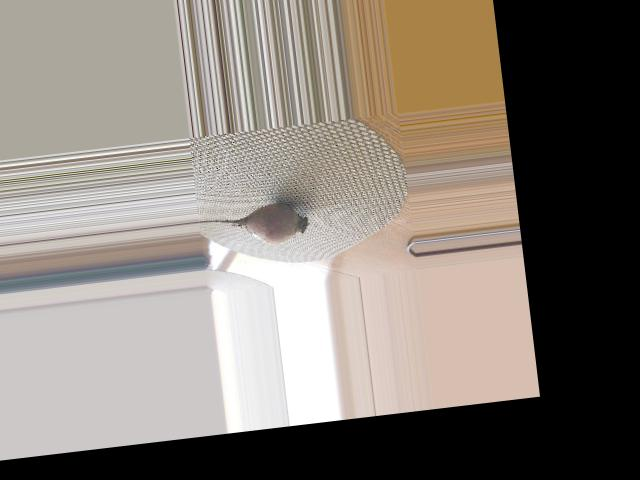beet: (198, 200, 310, 251)
